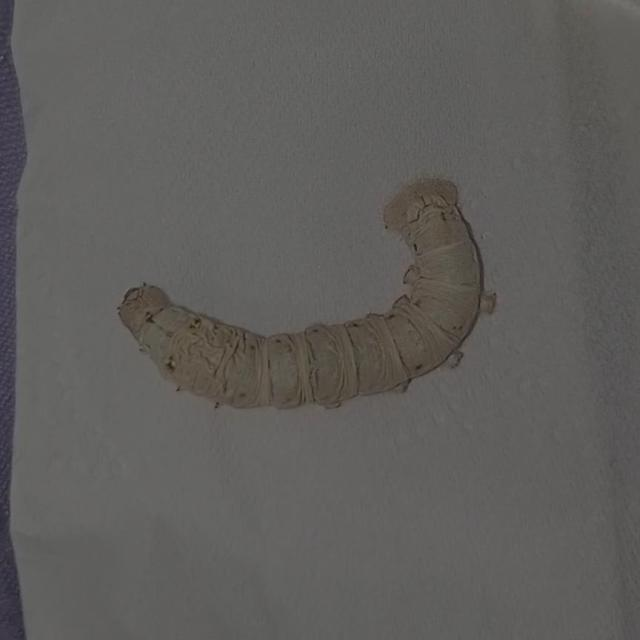Healthy: (92, 148, 532, 449)
